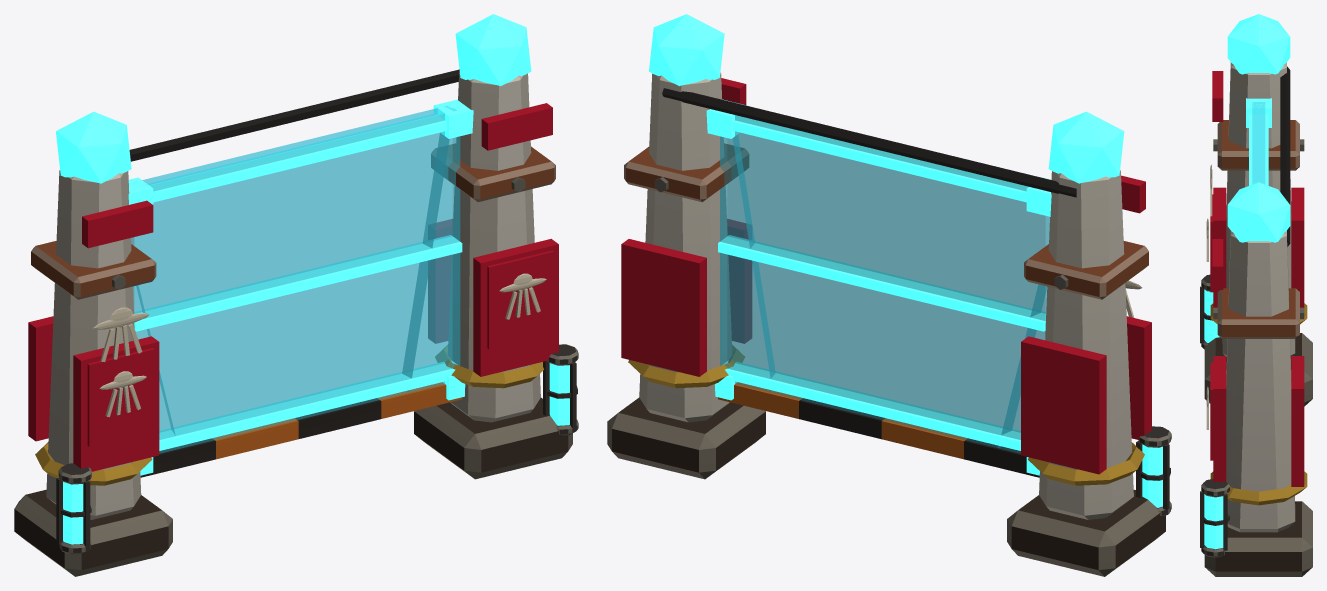
The model's file is gb_wall_chunks.glb.
3 views of the same model, side by side, from view 1: azimuth 30°, elevation 25°; view 2: azimuth 150°, elevation 25°; view 3: azimuth 270°, elevation 25° (orthographic). The views are drawn at different scales.
Parts seen in each view (by area): view 1: chunk_3, chunk_2, chunk_4, chunk_0, chunk_5, chunk_1; view 2: chunk_3, chunk_2, chunk_0, chunk_4, chunk_5, chunk_1; view 3: chunk_4, chunk_5, chunk_3, chunk_0, chunk_1.
Part boxes in pixels (left/top/right/bottom): chunk_3: left=95, top=76, right=458, bottom=324; chunk_2: left=147, top=254, right=433, bottom=466; chunk_4: left=400, top=219, right=578, bottom=479; chunk_0: left=14, top=316, right=183, bottom=576; chunk_5: left=421, top=14, right=558, bottom=264; chunk_1: left=31, top=111, right=159, bottom=363; chunk_3: left=716, top=99, right=1084, bottom=322; chunk_2: left=749, top=254, right=1036, bottom=465; chunk_0: left=992, top=323, right=1171, bottom=576; chunk_4: left=607, top=227, right=776, bottom=479; chunk_5: left=624, top=14, right=755, bottom=254; chunk_1: left=1024, top=111, right=1151, bottom=348; chunk_4: left=1200, top=356, right=1312, bottom=576; chunk_5: left=1212, top=182, right=1304, bottom=389; chunk_3: left=1212, top=15, right=1290, bottom=204; chunk_0: left=1200, top=187, right=1312, bottom=406; chunk_1: left=1210, top=14, right=1304, bottom=222.
Bounding box in the file's own units: 2.38 × 1.92 × 0.522.
